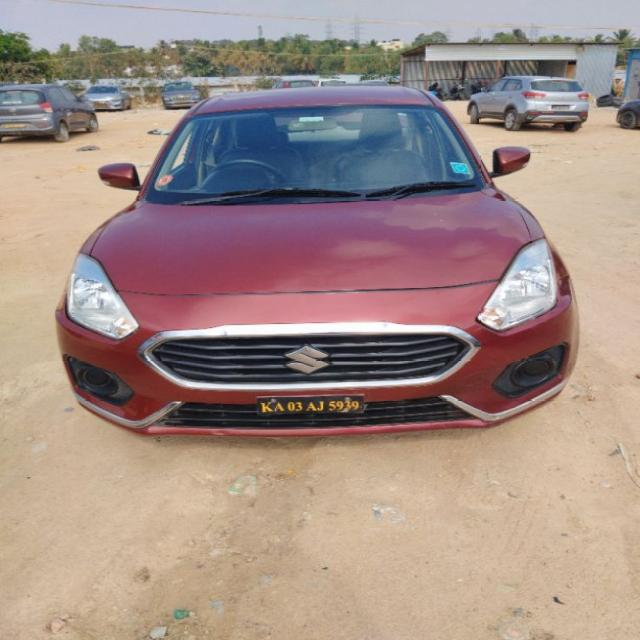license_plate: (254, 394, 366, 416)
